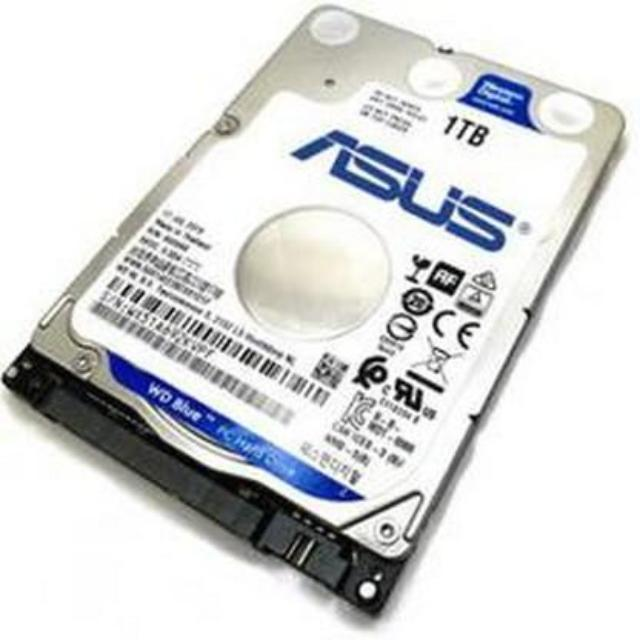DISK: (36, 0, 616, 615)
